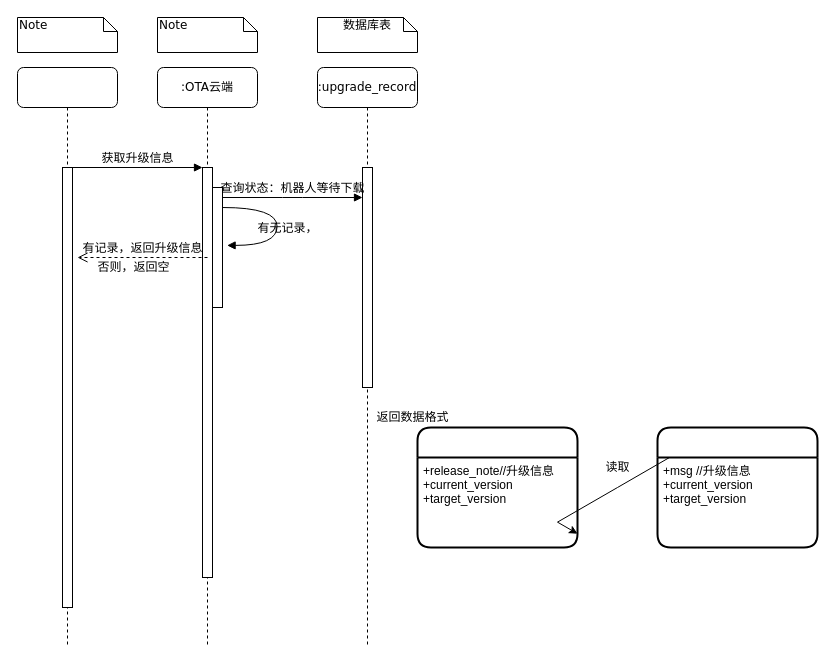
This 836x665 diagram has some shape labels left out. Each missing label, with the box of its shape:
:App端: (16, 66, 118, 648)
upgrade_record: (656, 426, 818, 548)
UpgradeInfo: (416, 426, 578, 548)
